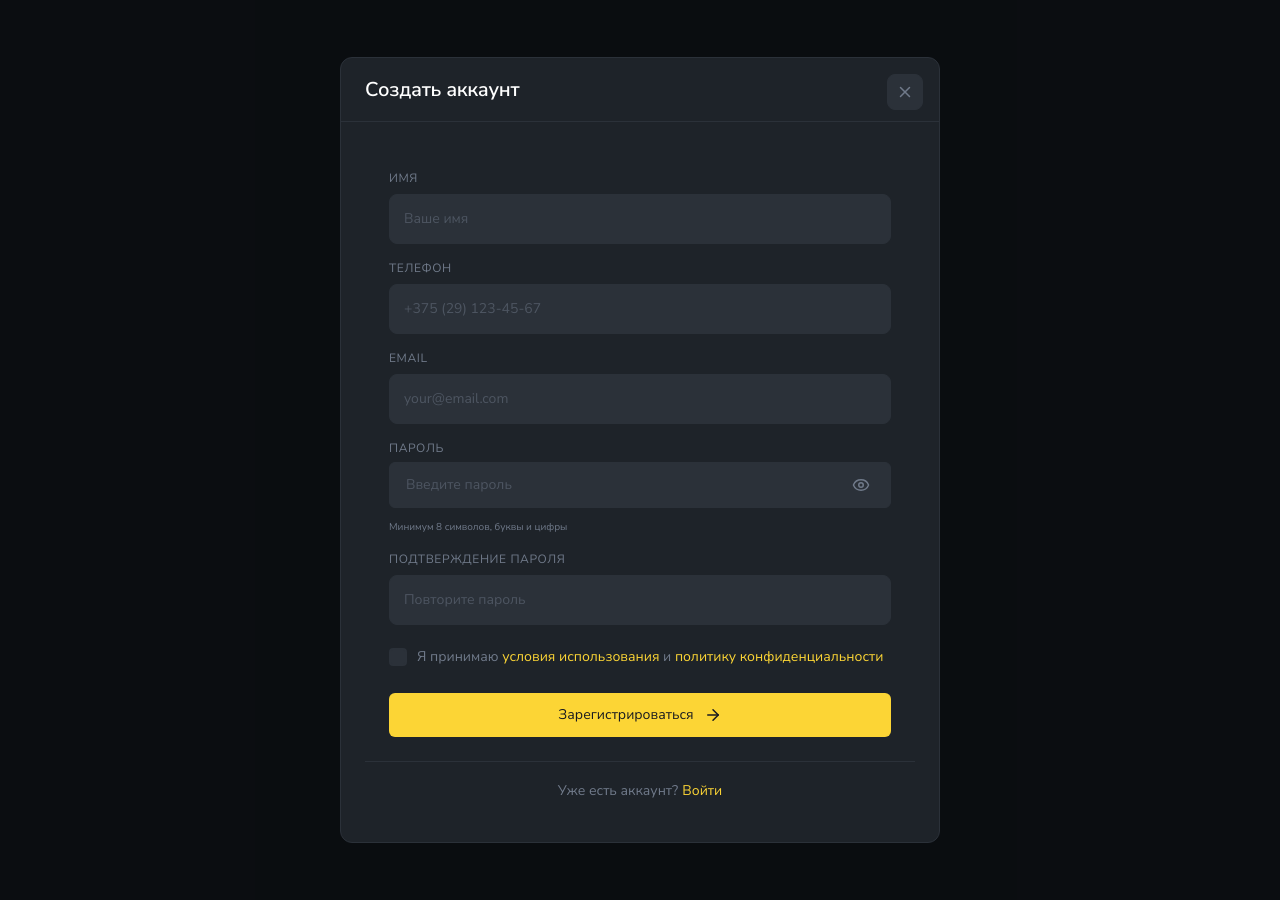
Test case: RegisterModal › shows error when passwords do not match
Type "Иван" into the field with placeholder "Ваше имя" at (640,219), box [389, 194, 891, 244]
Type "291234567" into the field with placeholder "+375 (29) 123-45-67" at (640,309), box [389, 284, 891, 334]
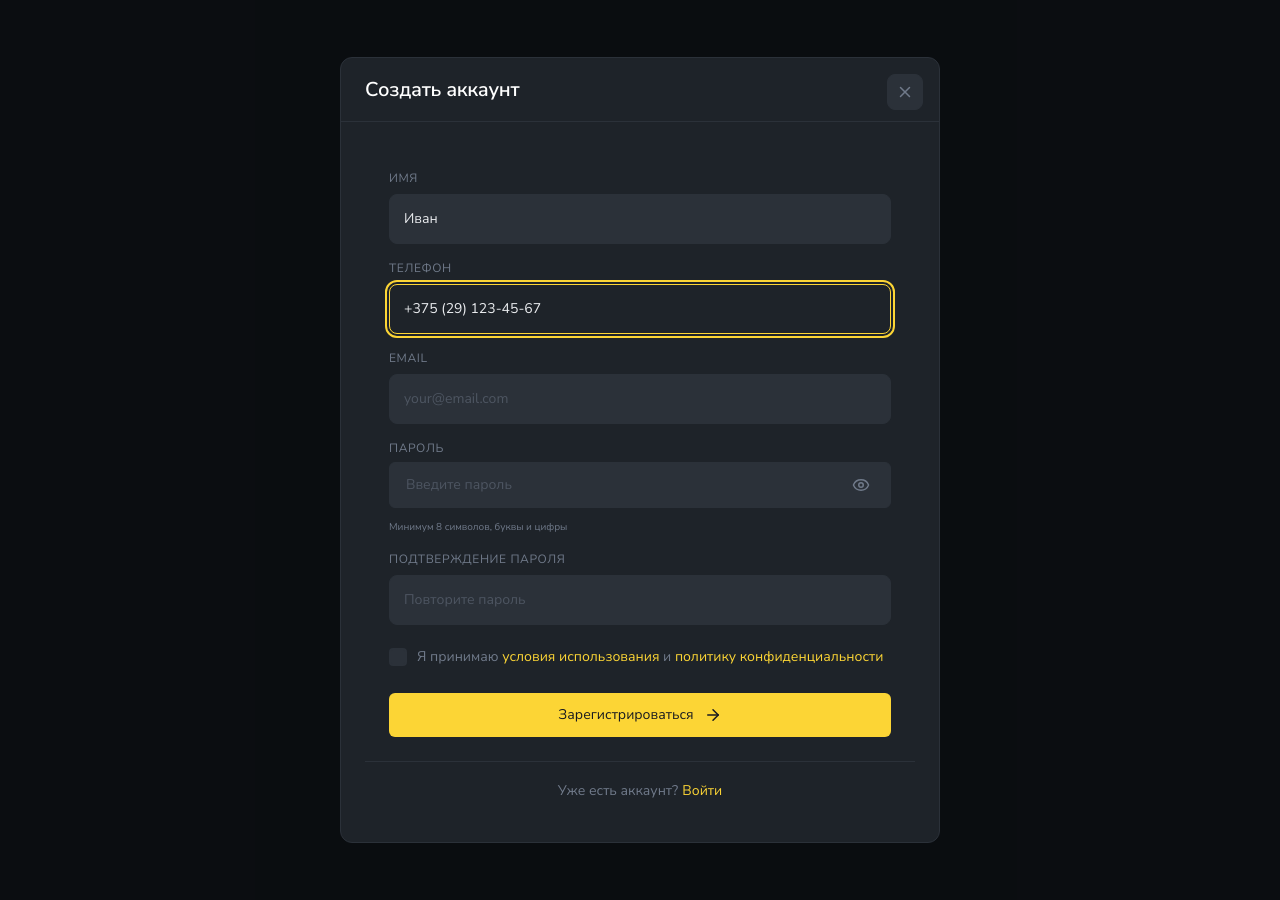
Type "ivan@example.com" into the field with placeholder "your@email.com" at (640,399), box [389, 374, 891, 424]
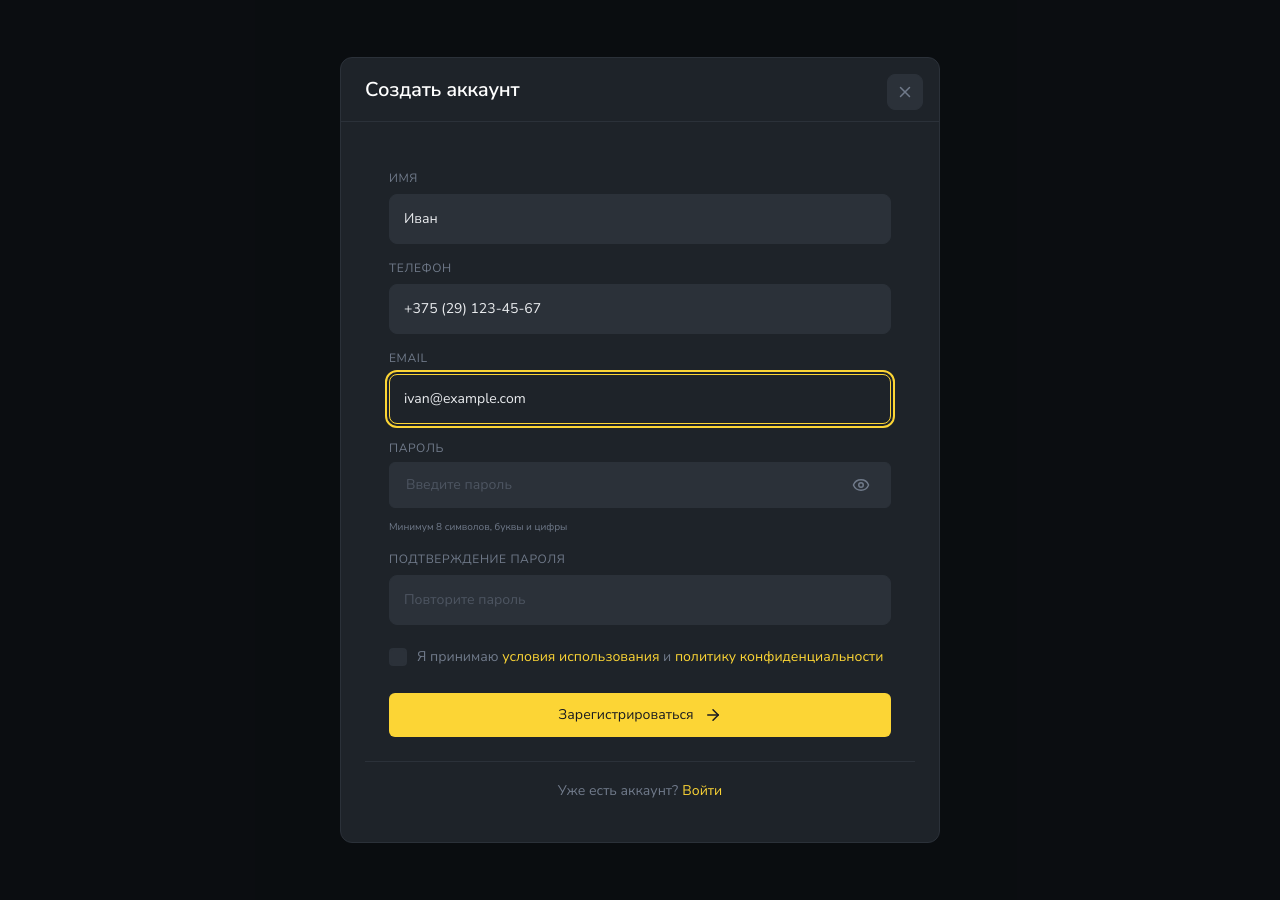
Type "Strong1!Pass" into the password field labelled "Пароль" at (640,485), box [389, 462, 891, 508]
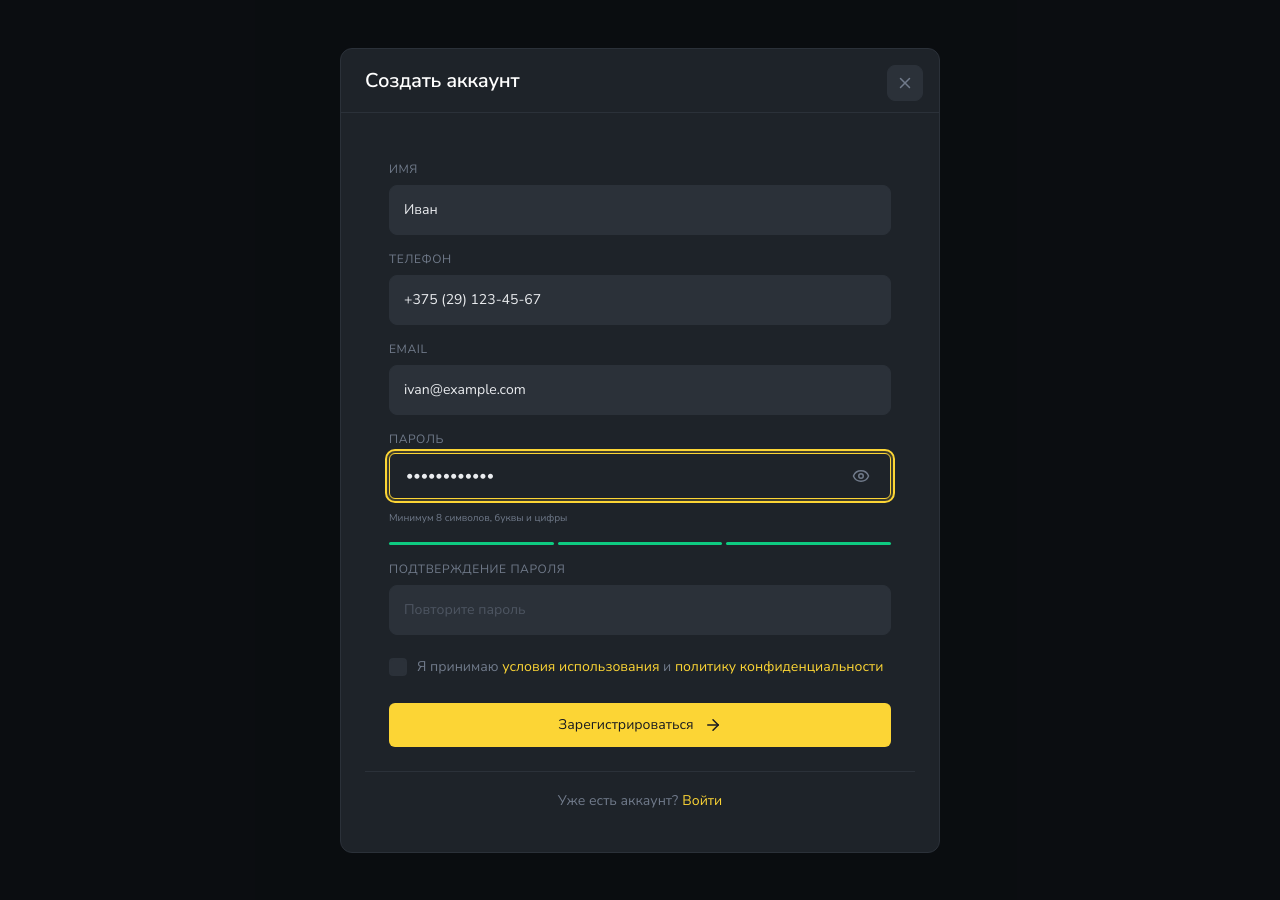
Type "Different1!Pass" into the password field with placeholder "Повторите пароль" at (640,610), box [389, 584, 891, 634]
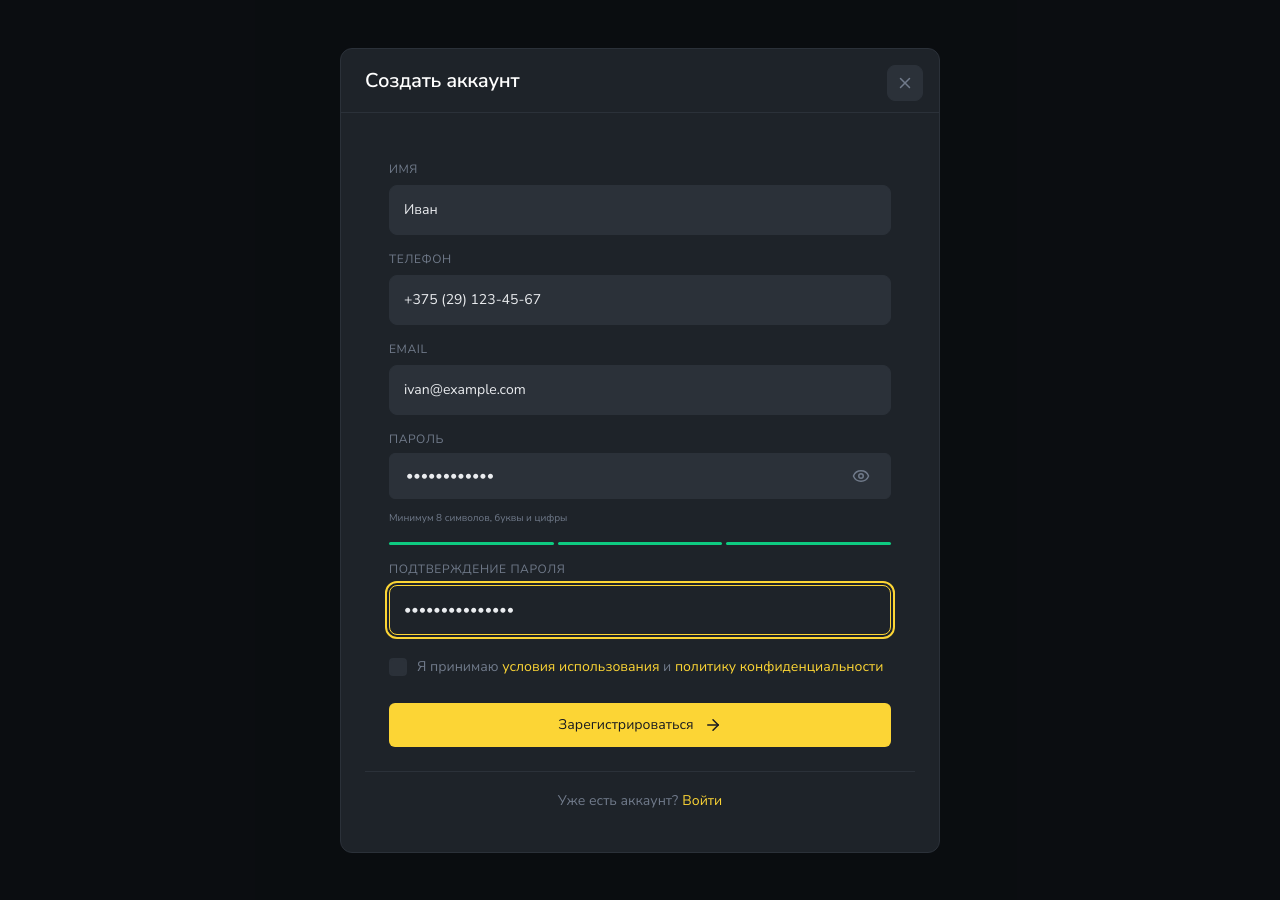
Click the checkbox labelled "Я принимаю" at (650,666), box [417, 654, 884, 678]
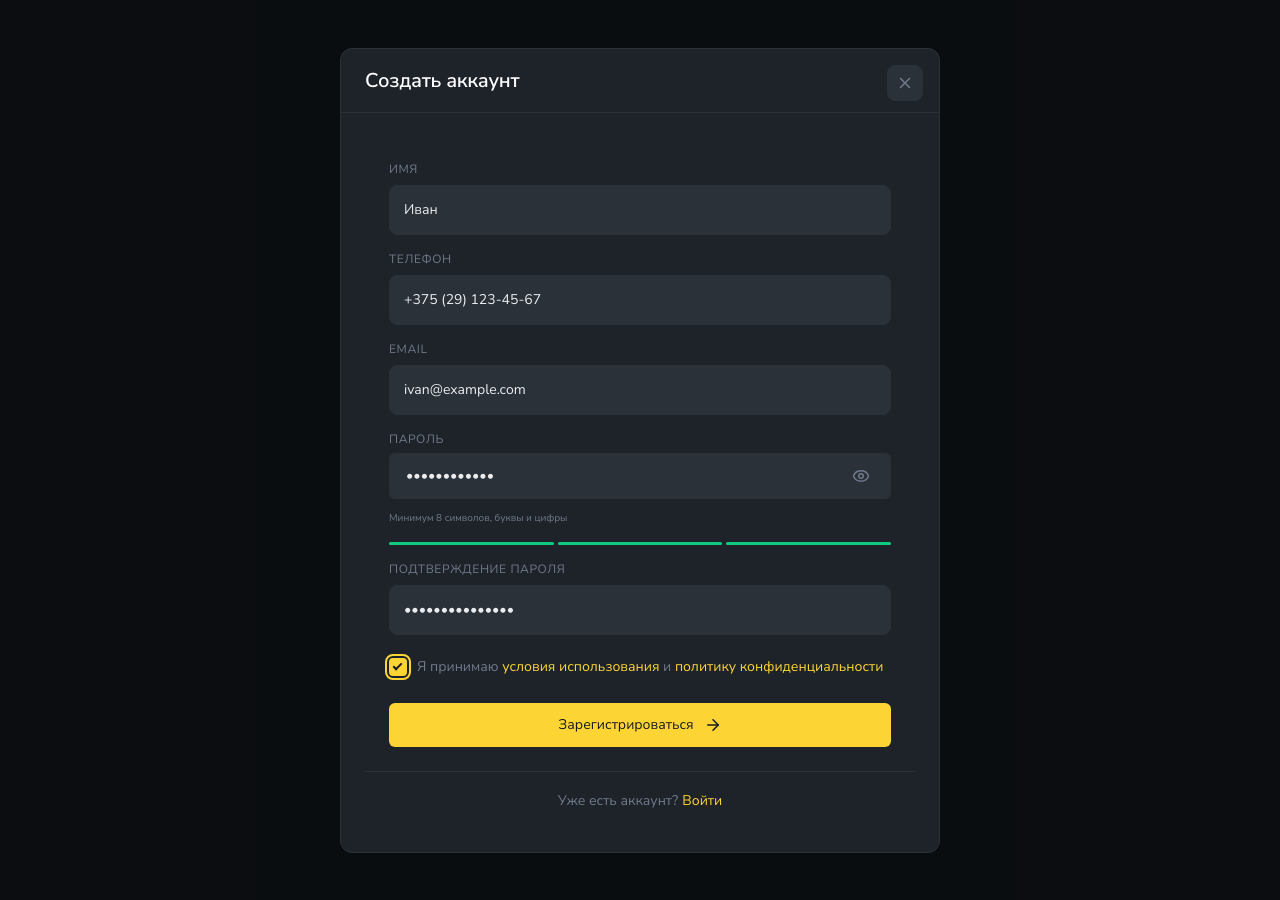
Click the button "Зарегистрироваться" at (640,724), box [389, 702, 891, 746]
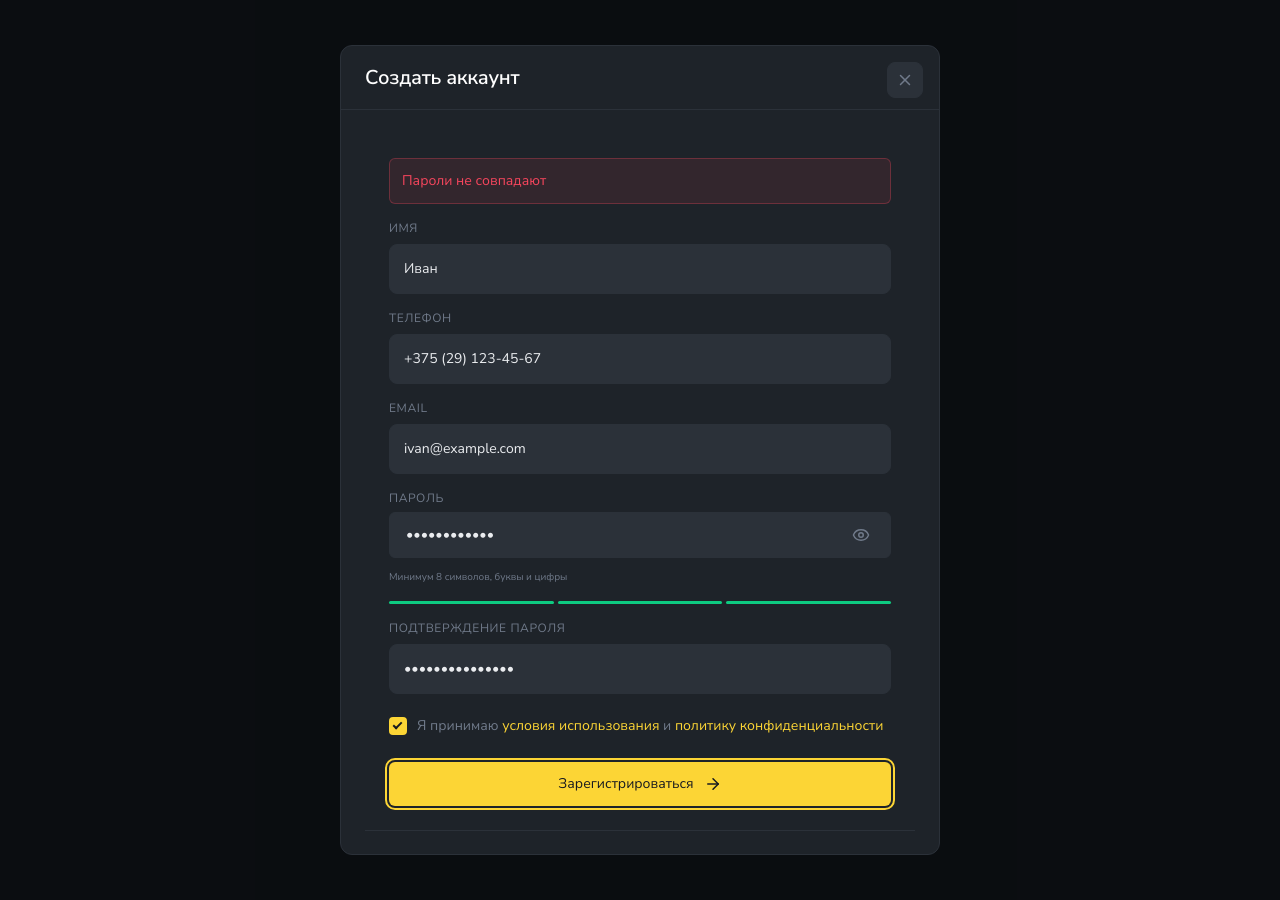
Check: the text "Пароли не совпадают" is shown, box [389, 158, 891, 204]
